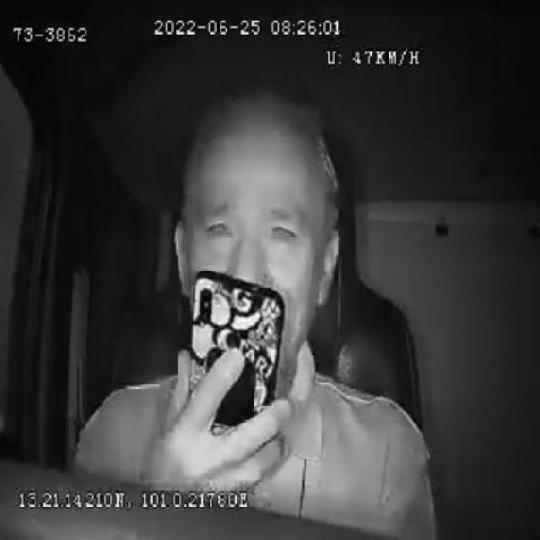phone: (190, 270, 282, 448)
